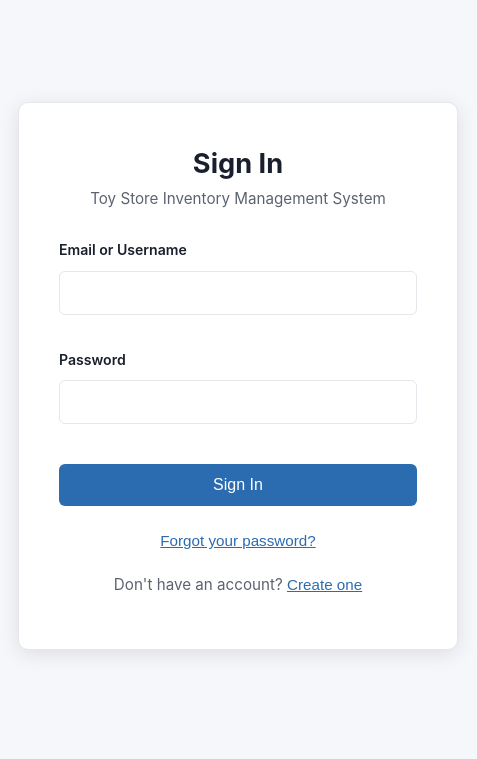
Login Page › switches to registration form when "Create one" is clicked
Click the button "Create one" at (325, 585), box [287,576,362,593]
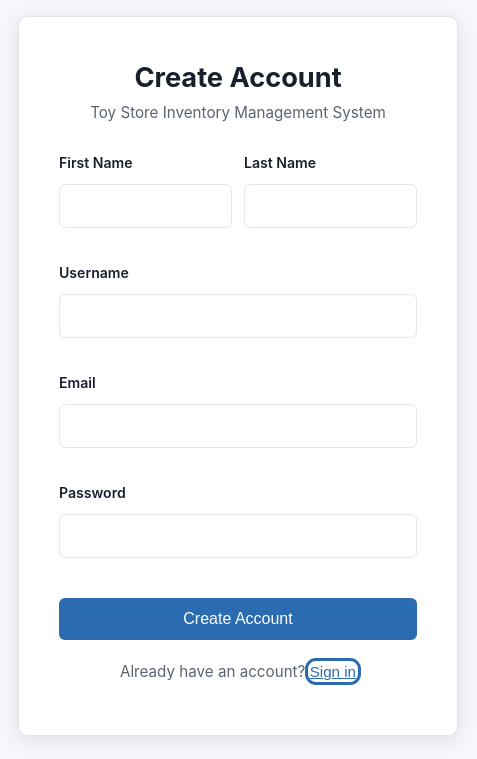
expect the heading "Create Account" is shown: met, box [134,61,342,94]
expect the field labelled "Username" is shown: met, box [59,294,417,338]
expect the button "Create Account" is shown: met, box [59,598,417,640]
